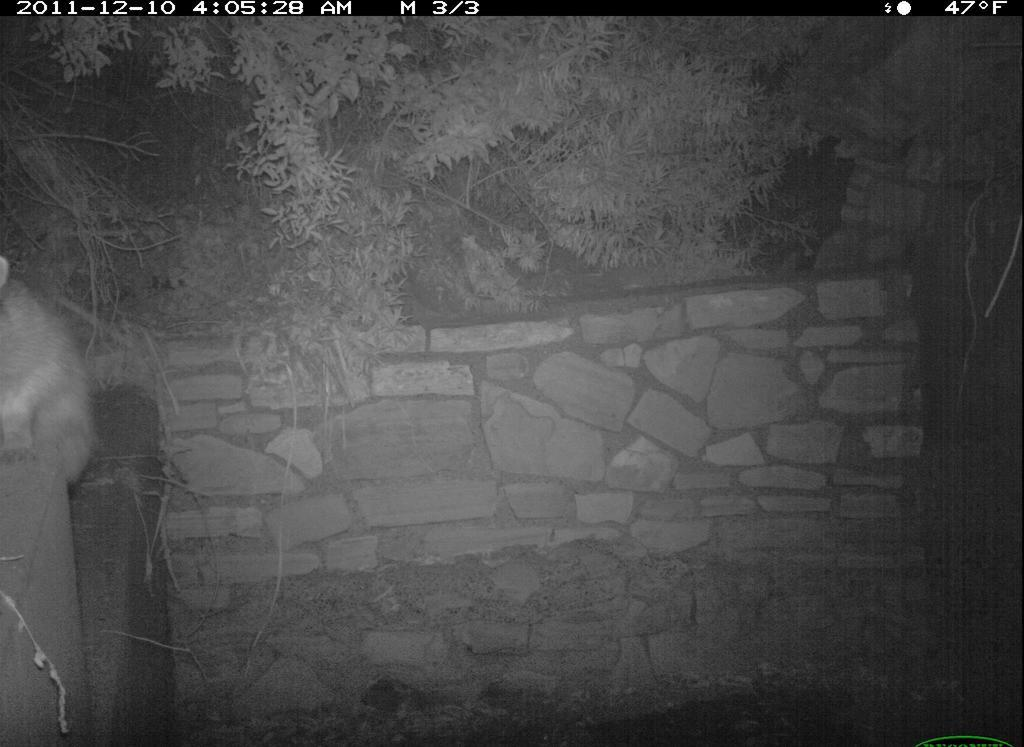raccoon: (2, 251, 109, 506)
